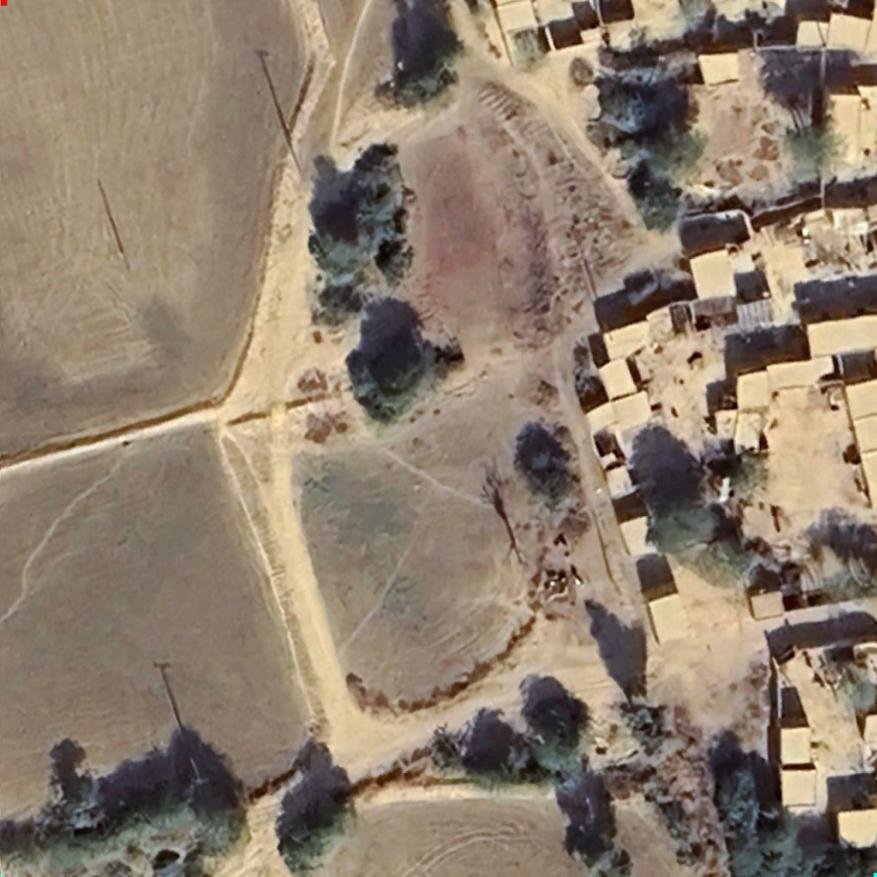Solarpanel: (732, 296, 782, 332)
